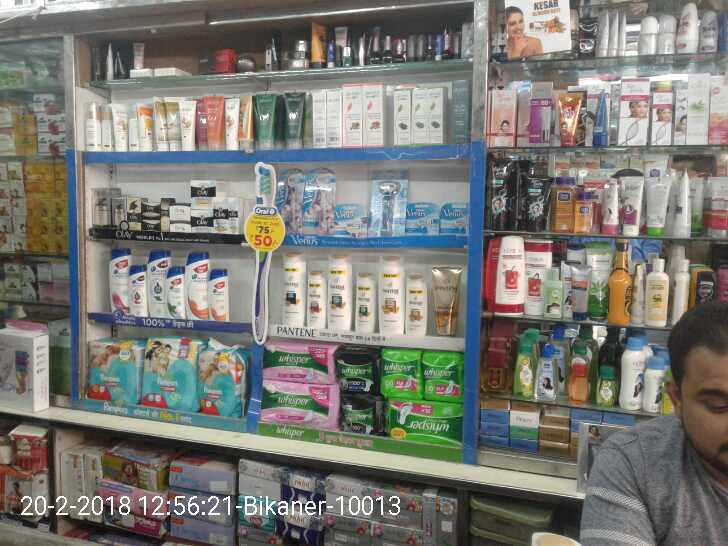venus: (372, 172, 407, 233), (304, 171, 336, 234), (279, 171, 304, 234), (439, 206, 469, 238), (336, 204, 367, 234), (407, 206, 439, 233)
